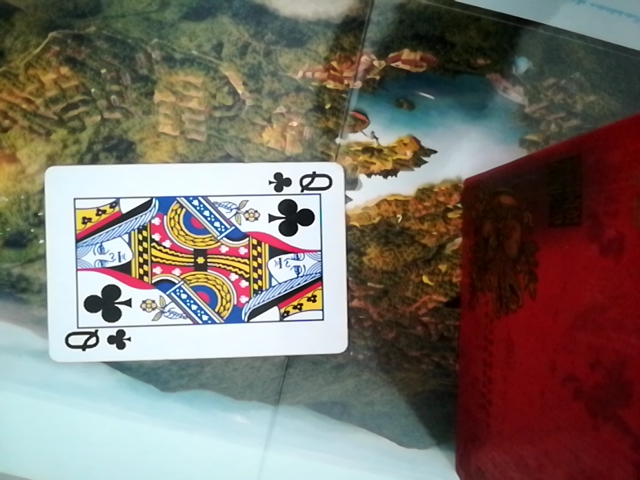mh q: (37, 160, 351, 364)
